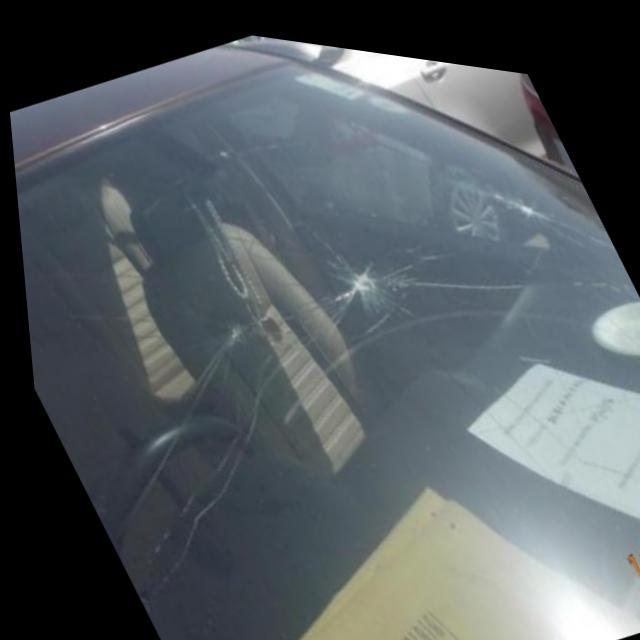glass shatter: (298, 207, 411, 319), (180, 300, 260, 413), (478, 172, 566, 217)
